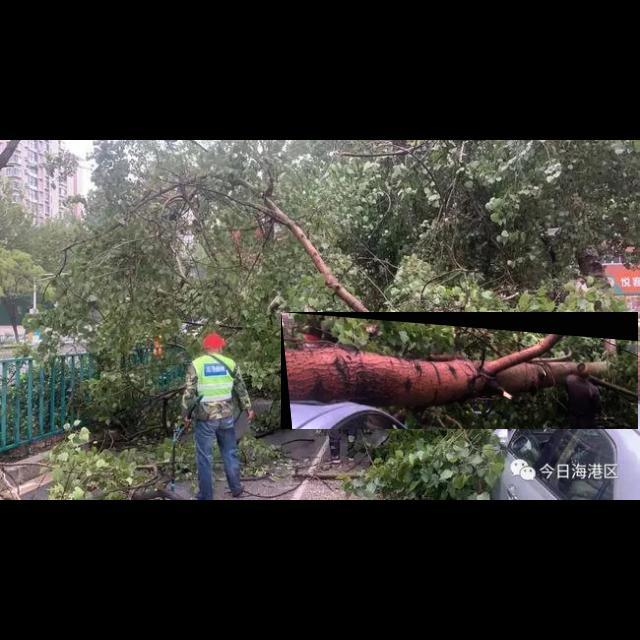fallen_tree: (281, 312, 639, 430)
